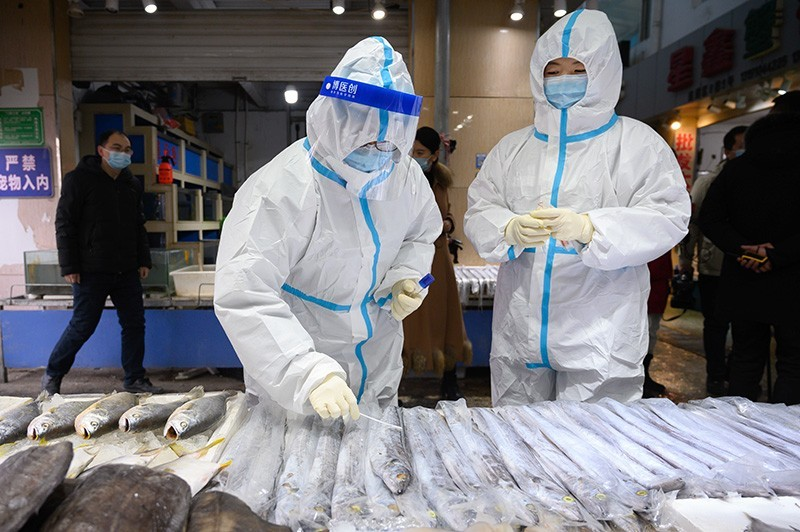Coverall: (460, 5, 695, 403), (209, 33, 445, 413)
Face_Shield: (302, 75, 425, 202)
Gloves: (304, 369, 359, 425), (535, 206, 598, 249), (499, 206, 552, 252), (385, 276, 422, 322)
with_mask: (539, 58, 591, 114), (339, 140, 398, 177), (103, 139, 133, 174)
